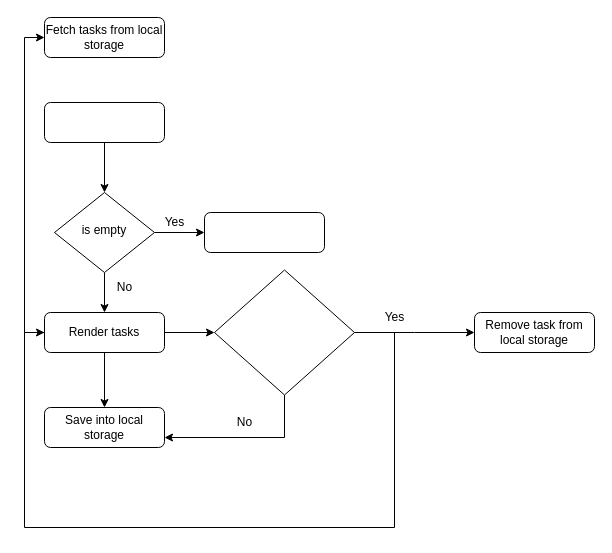
This 612x553 diagram has some shape labels left out. The shapes that lost their labels are listed below. From the top down, each one's centre as x and y in pixels, then its label:
pixel 104 122: Input a new task
pixel 264 232: Alert invalid input
pixel 284 332: Receive event click to delete a task
